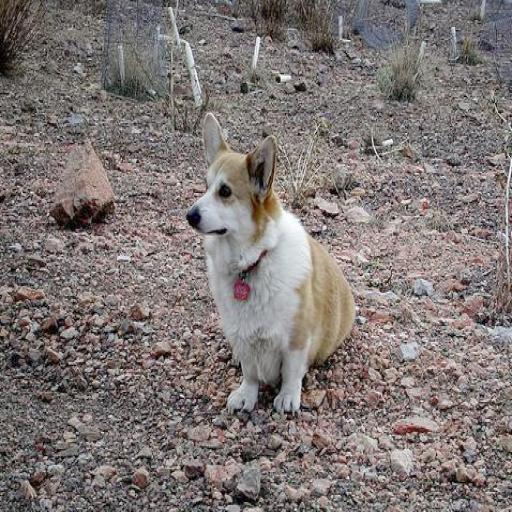dog_face: (182, 120, 281, 238)
